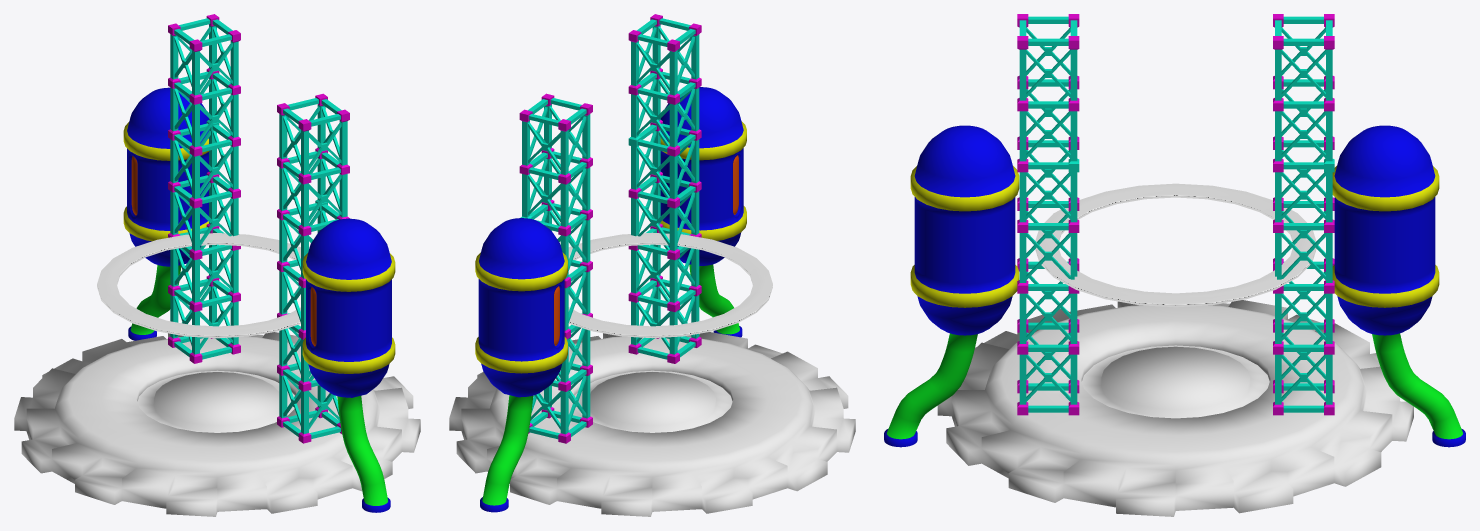
Rendered from SpaceStation_GasStation.glb.
3 renders of one model, left to right at view 1: azimuth 30°, elevation 25°; view 2: azimuth 150°, elevation 25°; view 3: azimuth 270°, elevation 25°, orthographic. The views are drawn at different scales.
Visible parts, largest first — view 1: Platform, Stand2, Cylinder.003, Stand1, Cylinder.002, Cylinder.001; view 2: Platform, Stand1, Cylinder.002, Stand2, Cylinder.003, Cylinder.001; view 3: Platform, Cylinder.003, Cylinder.002, Stand1, Stand2, Cylinder.001.
Part boxes in pixels (x1=…): Platform: x1=14, y1=332, x2=420, y2=516; Stand2: x1=168, y1=14, x2=240, y2=363; Cylinder.003: x1=302, y1=218, x2=395, y2=512; Stand1: x1=277, y1=93, x2=349, y2=443; Cylinder.002: x1=123, y1=87, x2=208, y2=340; Cylinder.001: x1=97, y1=233, x2=300, y2=338; Platform: x1=449, y1=332, x2=855, y2=516; Stand1: x1=628, y1=14, x2=701, y2=363; Cylinder.002: x1=475, y1=218, x2=567, y2=512; Stand2: x1=519, y1=93, x2=592, y2=443; Cylinder.003: x1=660, y1=87, x2=746, y2=337; Cylinder.001: x1=568, y1=232, x2=772, y2=338; Platform: x1=937, y1=300, x2=1413, y2=516; Cylinder.003: x1=884, y1=125, x2=1019, y2=447; Cylinder.002: x1=1332, y1=125, x2=1465, y2=447; Stand1: x1=1017, y1=14, x2=1079, y2=415; Stand2: x1=1273, y1=14, x2=1334, y2=415; Cylinder.001: x1=1035, y1=183, x2=1316, y2=307.
Size of the model in its own units: 42.47 by 40.6 by 51.86.
